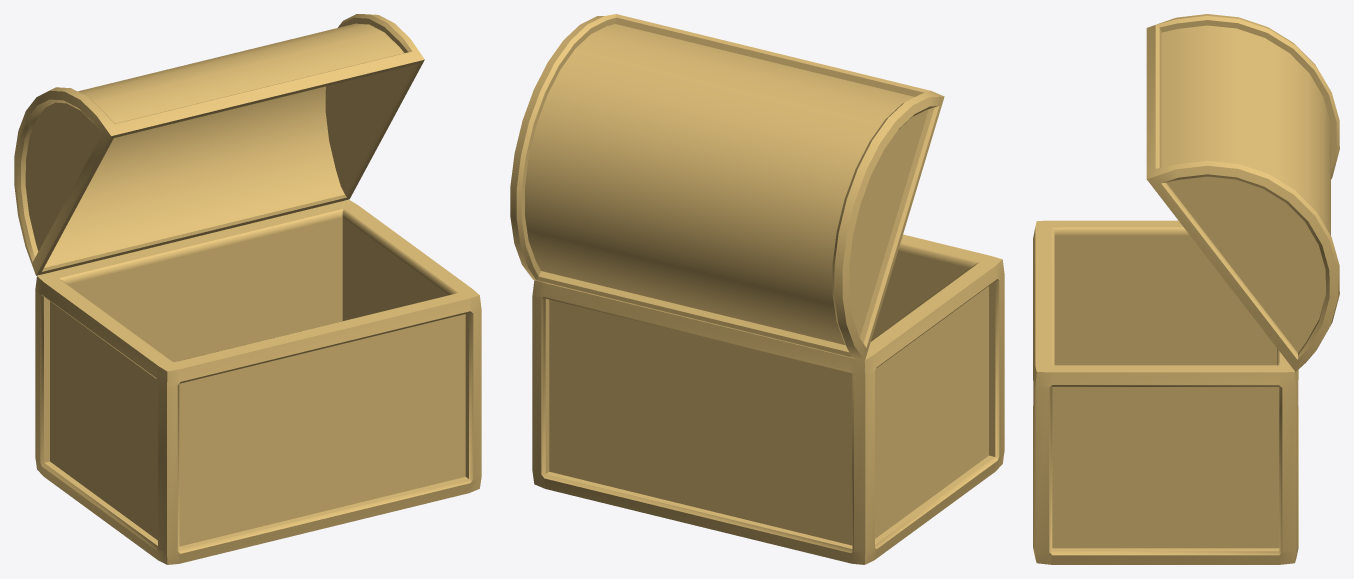
The model's file is 00 Cajita.fbx.
The picture shows the model from 3 angles, left to right: view 1: azimuth 30°, elevation 25°; view 2: azimuth 150°, elevation 25°; view 3: azimuth 270°, elevation 25°; orthographic projection. The views are drawn at different scales.
Visible parts, largest first — view 1: Bottom__0, Top__0; view 2: Top__0, Bottom__0; view 3: Bottom__0, Top__0.
Part boxes in pixels (bbox=[...]): Bottom__0: bbox=[35, 200, 481, 564]; Top__0: bbox=[14, 14, 424, 275]; Top__0: bbox=[510, 14, 944, 360]; Bottom__0: bbox=[532, 234, 1004, 564]; Bottom__0: bbox=[1033, 220, 1298, 564]; Top__0: bbox=[1146, 14, 1339, 371].
Bounding box in the file's own units: 71.28 × 87.1 × 60.02.
